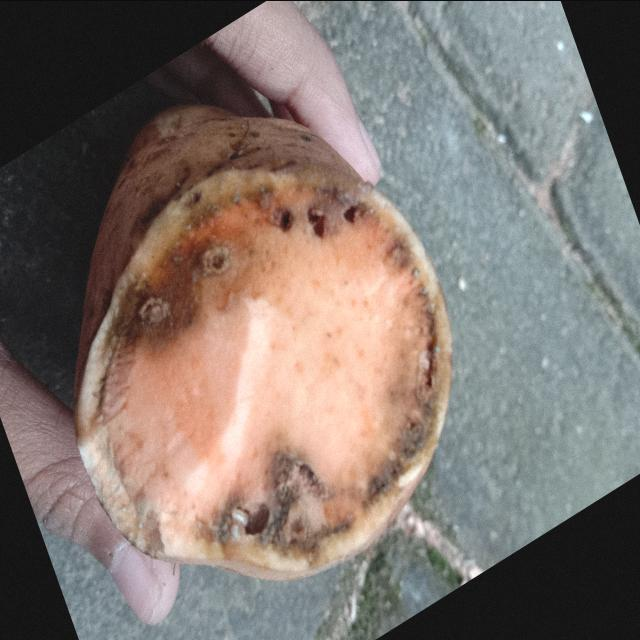Sick Sweet Potato_Tuber Rot: (76, 168, 451, 578)
